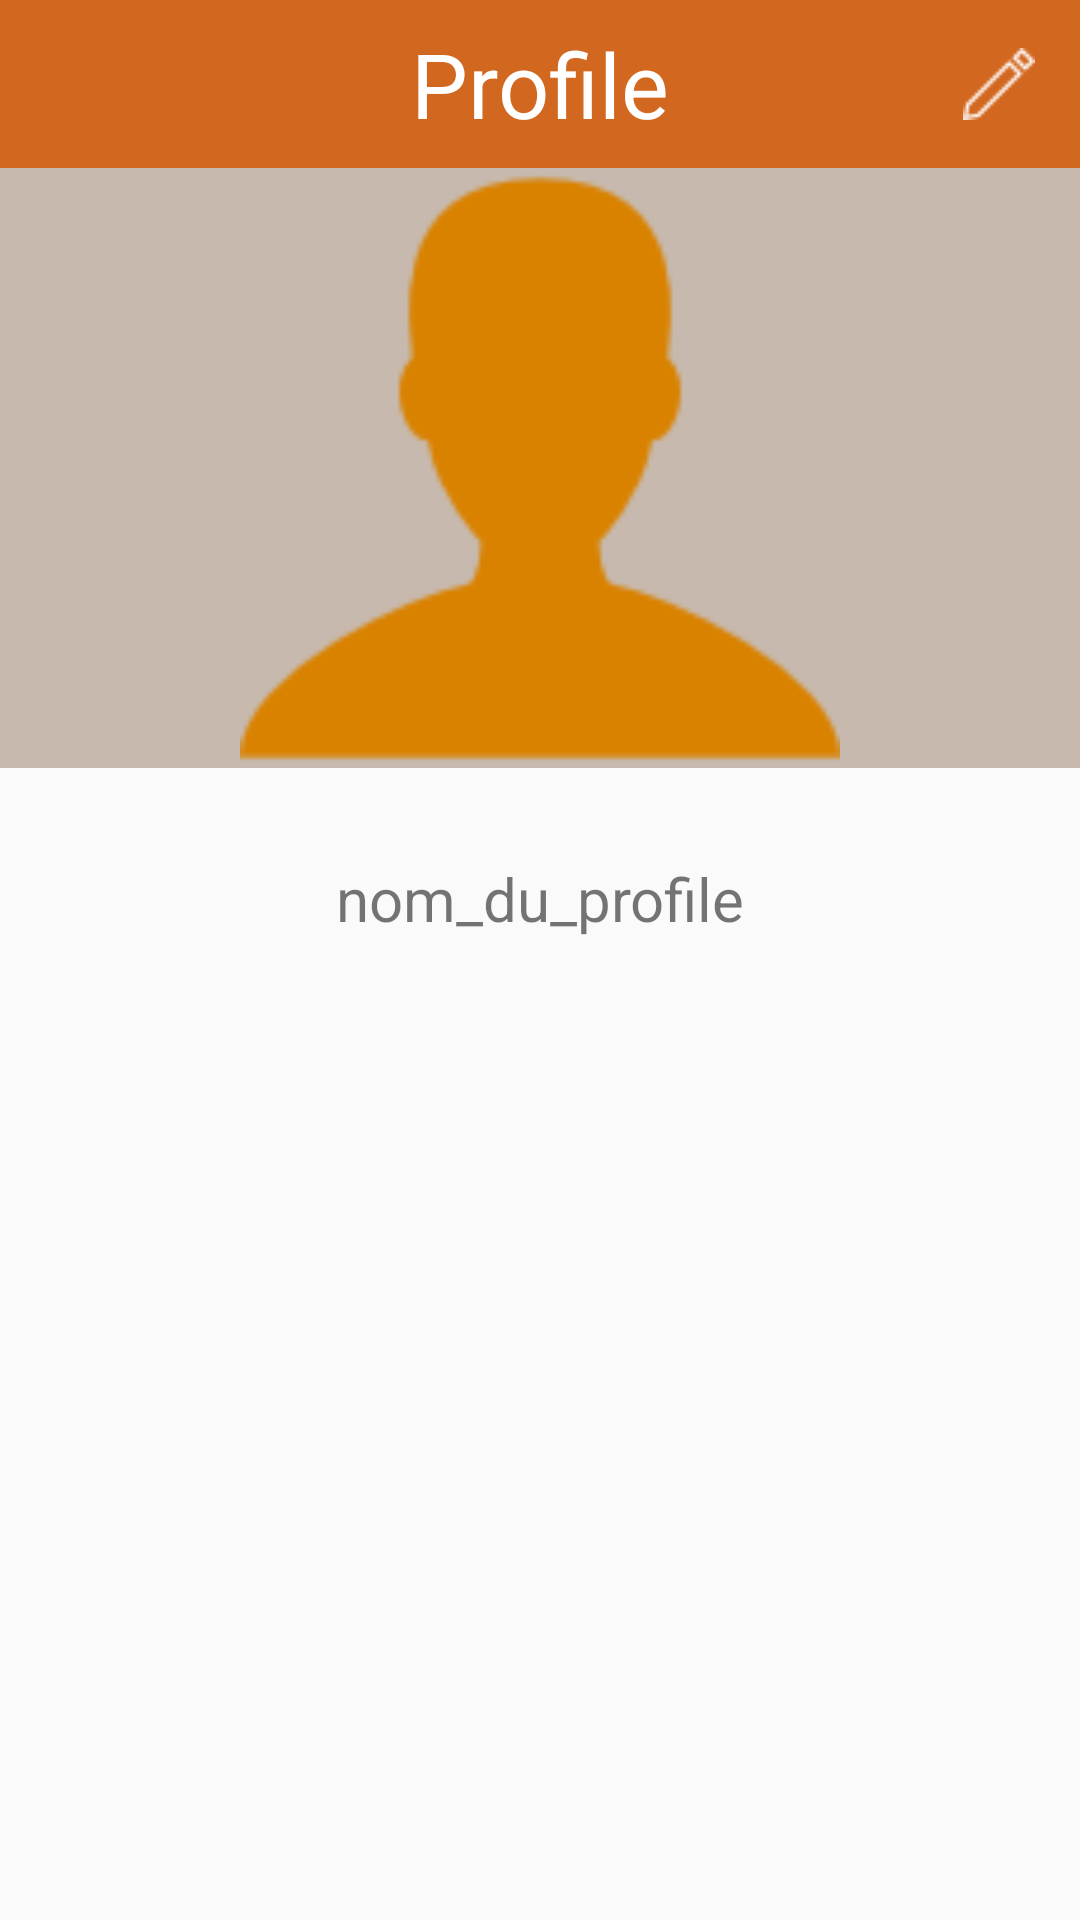

Icon click points for this 1080*1920 phone screenshot, format (x=x, y=y):
edit: (x=999, y=84)
